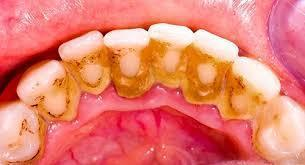Plaque: (182, 43, 228, 107), (64, 45, 111, 97), (108, 44, 152, 98), (31, 72, 79, 121), (222, 62, 257, 122), (148, 36, 186, 90)
